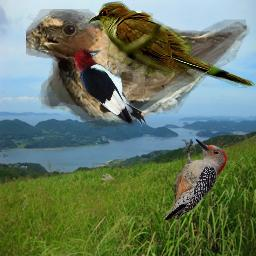Cuckoo: (88, 1, 255, 88)
Swallow: (26, 9, 250, 130)
Woodpecker: (75, 48, 149, 127), (165, 139, 227, 220)
